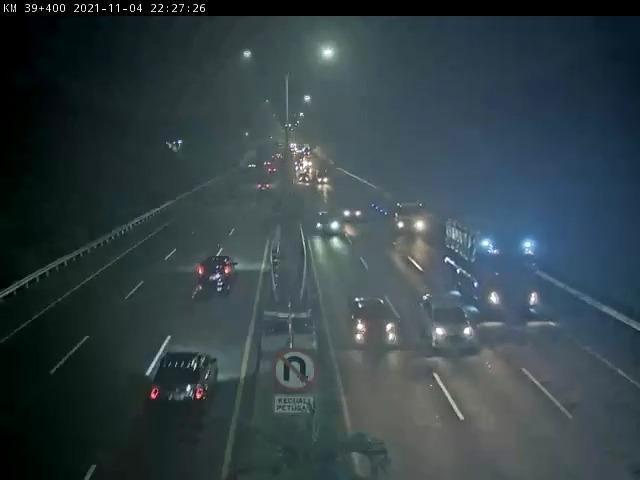car: (152, 353, 222, 418), (418, 292, 474, 351), (348, 297, 400, 350), (199, 257, 240, 293), (314, 213, 341, 234), (342, 205, 360, 221)
truck: (443, 218, 539, 316), (374, 188, 433, 235)
